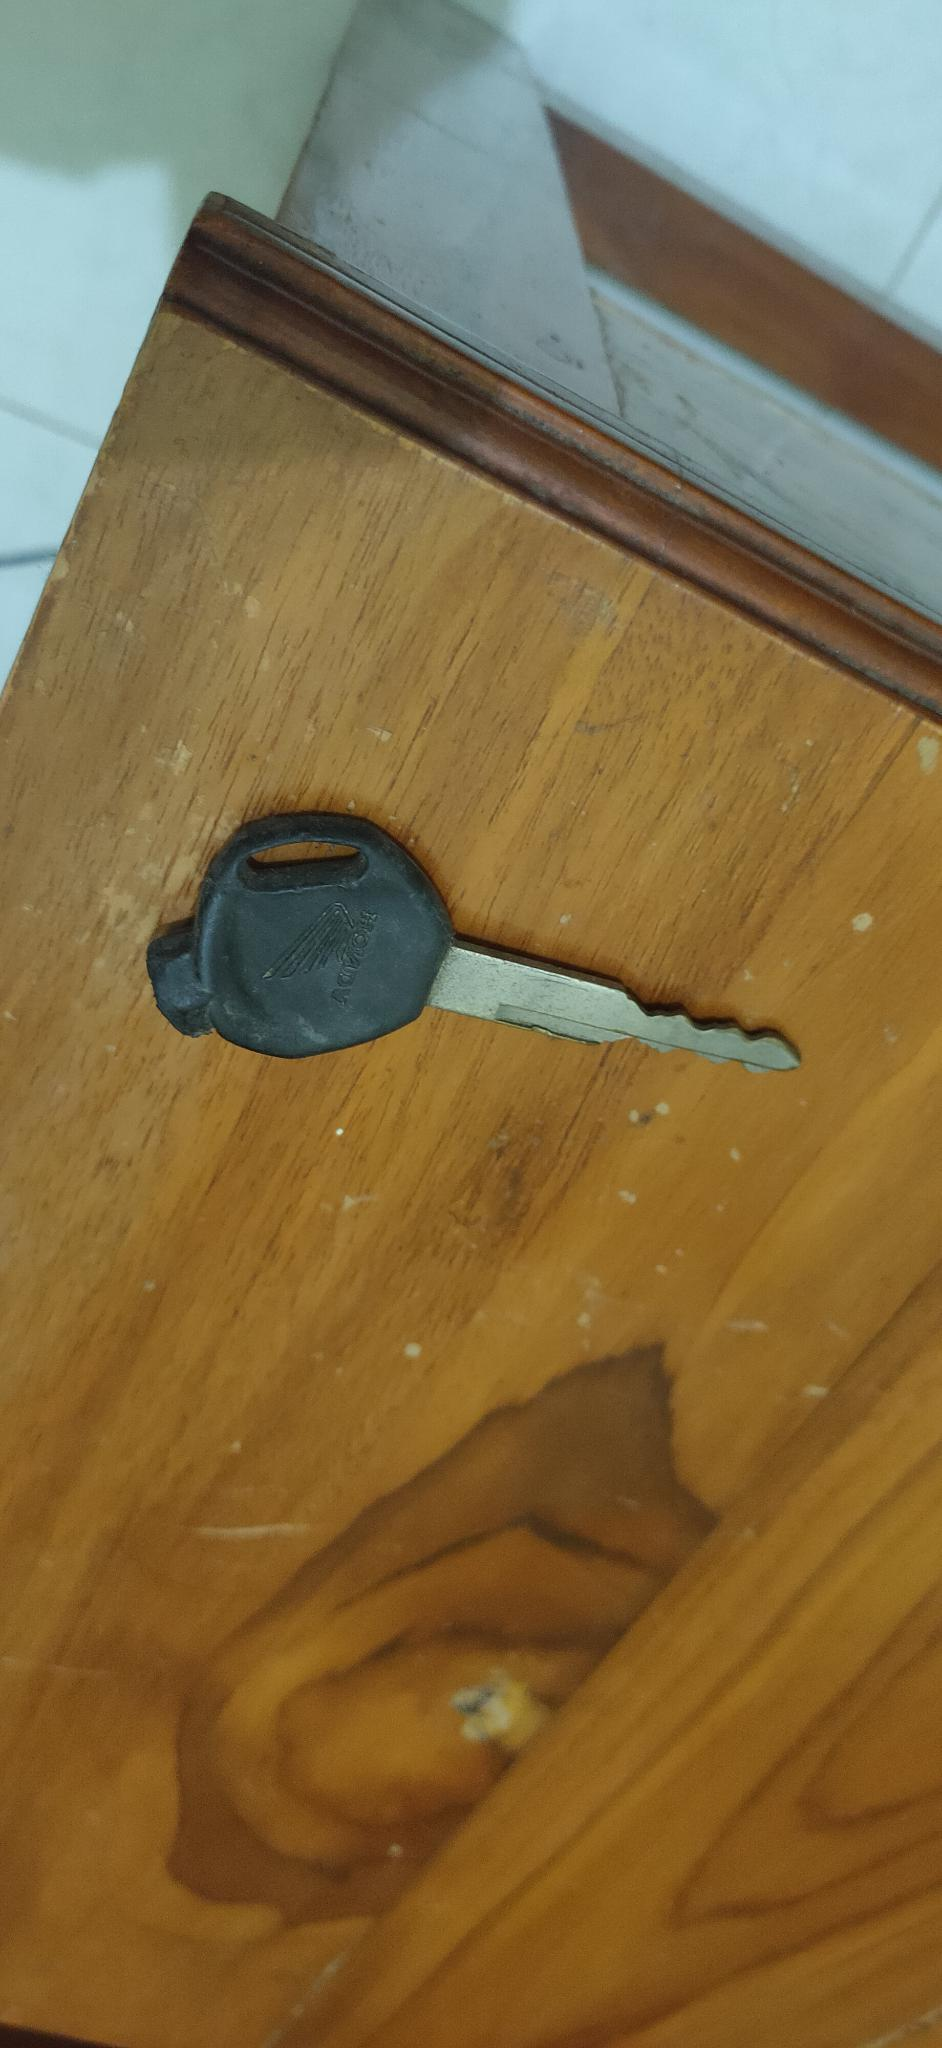keys: (131, 805, 820, 1110)
